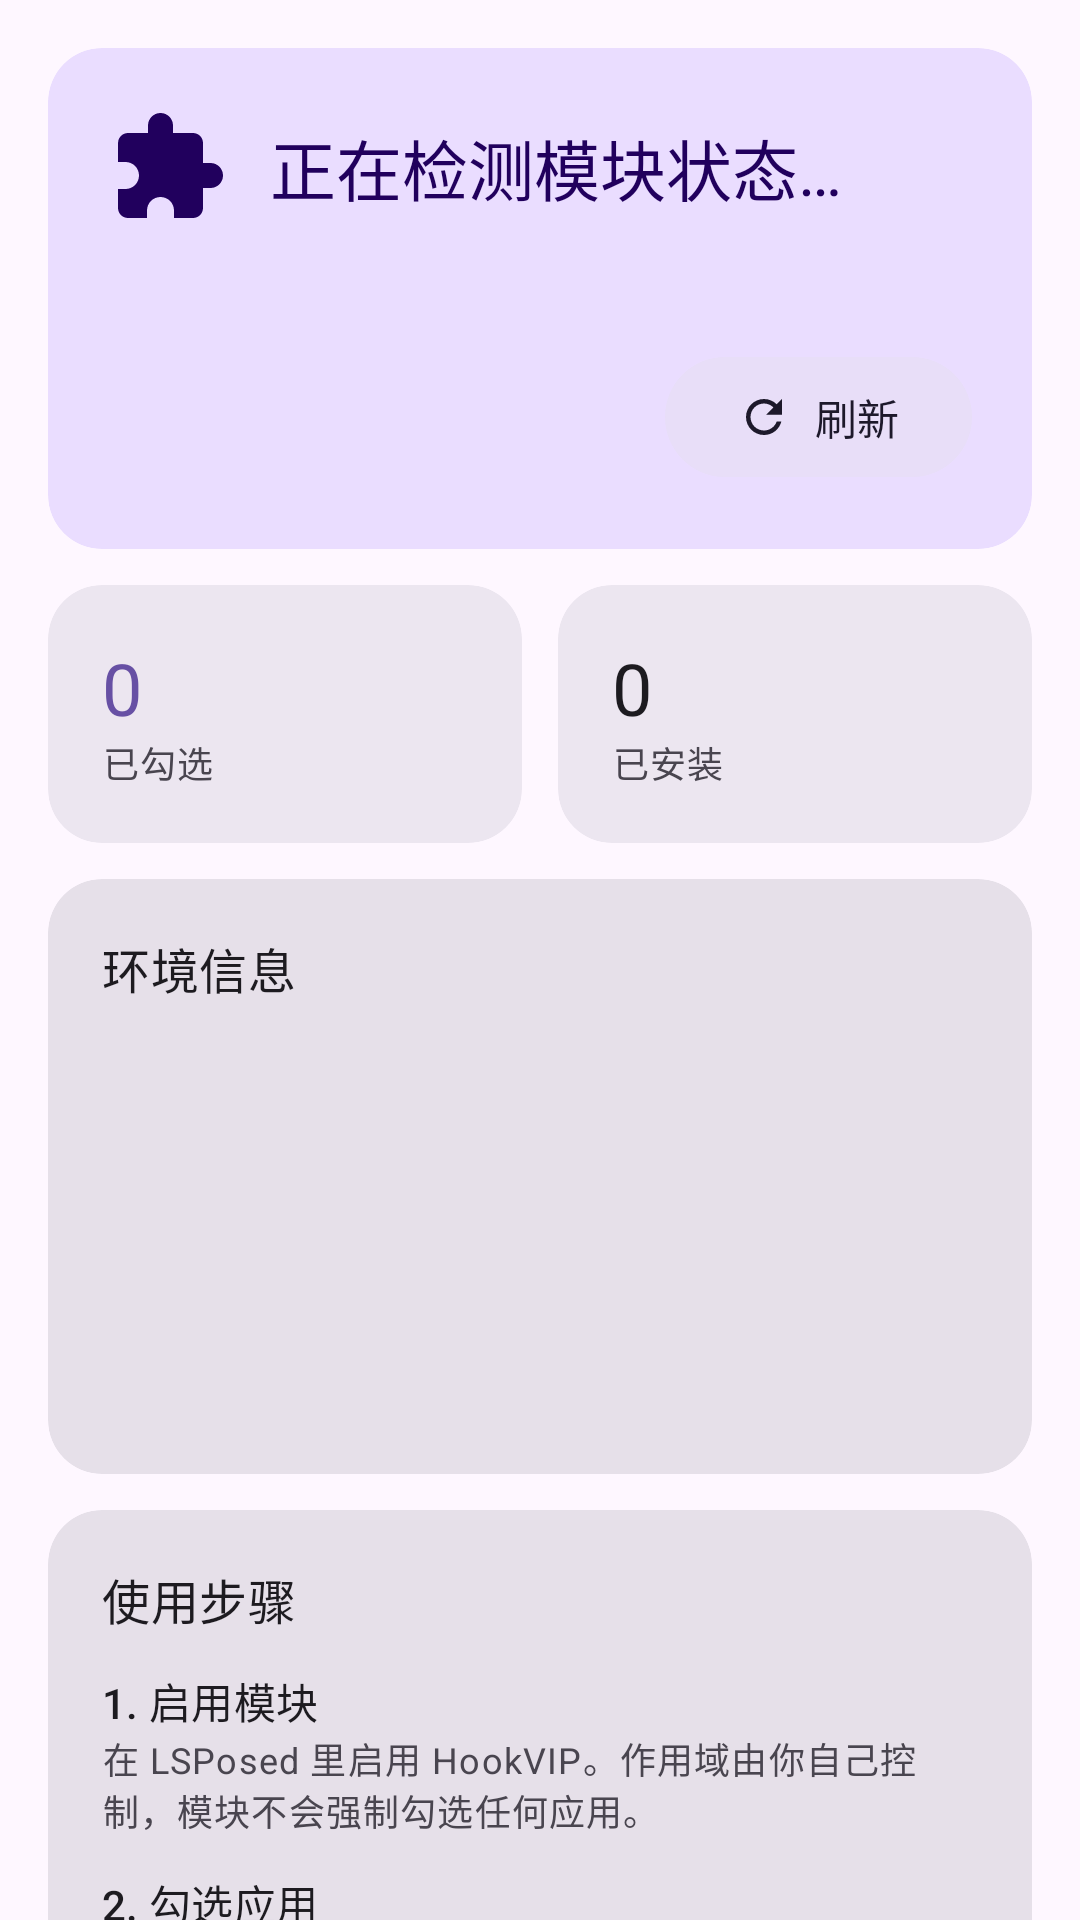

Icon click points for this 1080 x 1920 phone screenshot, format (x,y):
module: (170,165)
